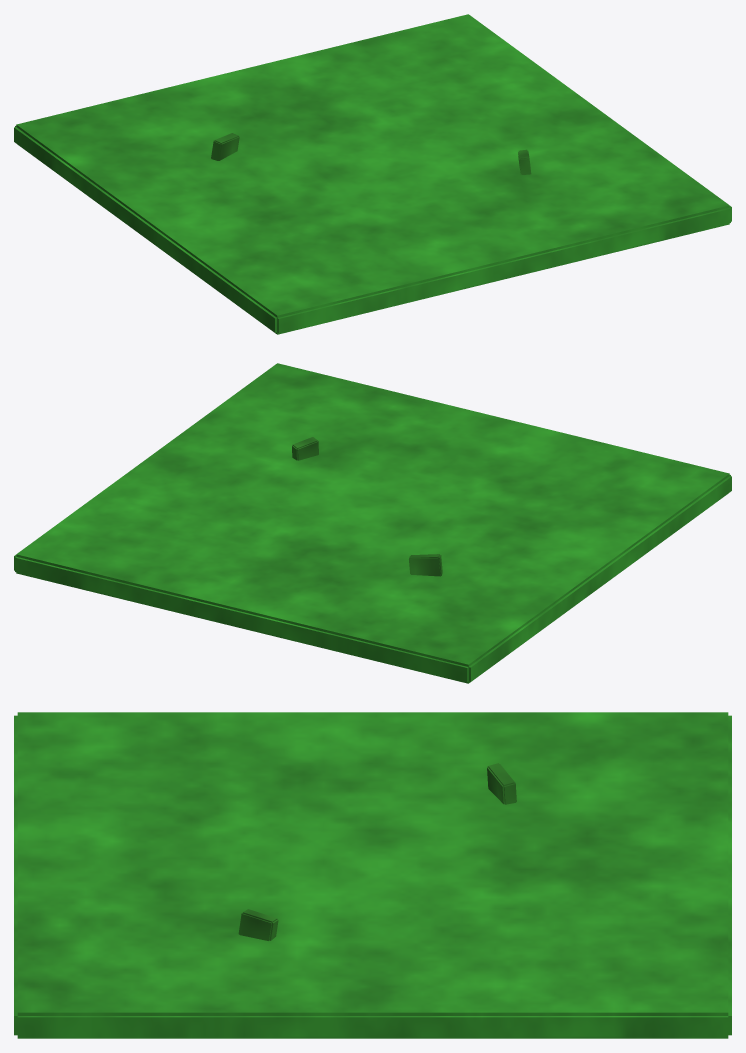
File: terrain_grass.glb
3 renders of one model, top to bottom at view 1: azimuth 30°, elevation 25°; view 2: azimuth 150°, elevation 25°; view 3: azimuth 270°, elevation 25°, orthographic. The views are drawn at different scales.
Visible parts, largest first — view 1: terrain_grass; view 2: terrain_grass; view 3: terrain_grass.
Boxes of the visible parts, x1,y1,x2,y2 form: terrain_grass: (14, 14, 731, 334); terrain_grass: (14, 363, 731, 683); terrain_grass: (14, 712, 731, 1038).
Size of the model in its own units: 1 by 0.0783 by 1.
3 materials, 3 textured.
